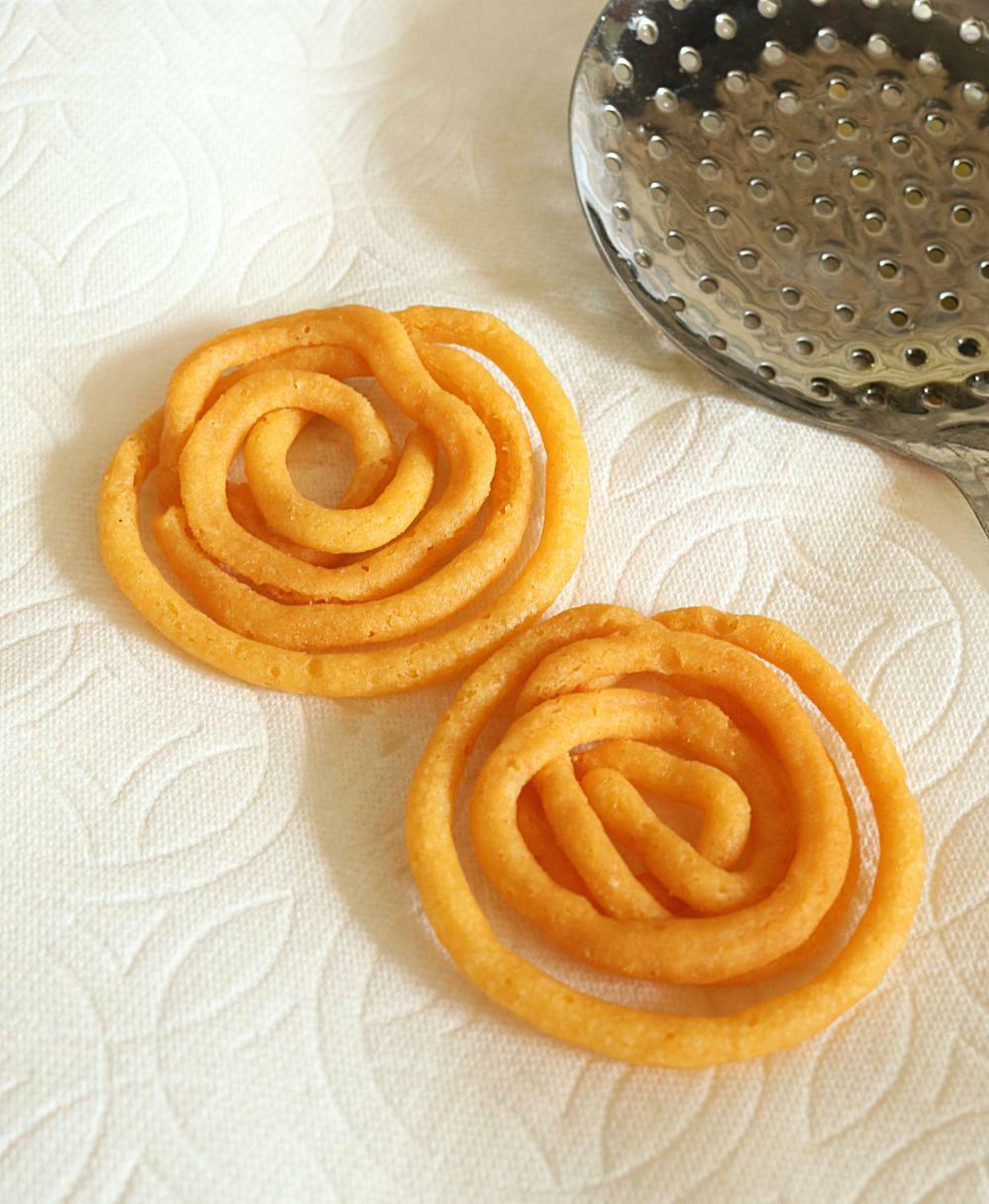Jalebi: (90, 292, 942, 1087)
